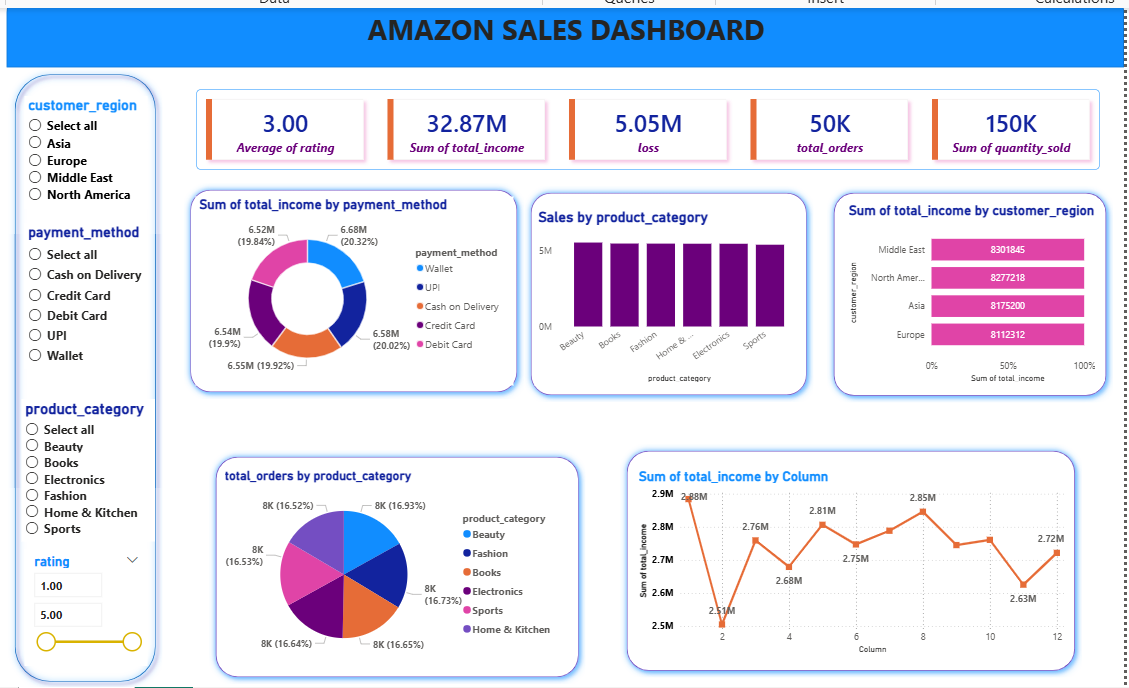

What the dashboard file says about the page in this screenshot:
{"tool":"powerbi","page":{"name":"Page 3","canvas":[1500,1000],"ordinal":0},"visuals":[{"type":"shape","box":[10,0,1490,98],"z":0},{"type":"textbox","box":[12,16,1488,66],"z":1000},{"type":"shape","box":[246,252,454,288],"z":2000},{"type":"donutChart","fields":{"Category":["amazon_sales_cleaned_dataset.payment_method"],"Y":["Sum(amazon_sales_cleaned_dataset.total_income)"]},"box":[262,270,424,252],"z":3000},{"type":"shape","box":[700,256,386,288],"z":4000},{"type":"shape","box":[280,608,502,312],"z":5000},{"type":"shape","box":[1104.3,255.7,381.4,288.6],"z":6000},{"type":"clusteredColumnChart","title":"Sales by product_category","fields":{"Category":["amazon_sales_cleaned_dataset.product_category"],"Y":["Sum(amazon_sales_cleaned_dataset.total_income)"]},"box":[714,286,358,236],"z":7000},{"type":"shape","box":[12,98,206,828],"z":8000},{"type":"listSlicer","fields":{"Values":["amazon_sales_cleaned_dataset.customer_region"]},"box":[34,136,164,150],"z":9000},{"type":"listSlicer","fields":{"Values":["amazon_sales_cleaned_dataset.payment_method"]},"box":[34,306,164,194],"z":10000},{"type":"listSlicer","fields":{"Values":["amazon_sales_cleaned_dataset.product_category"]},"box":[30,540,178,190],"z":11000},{"type":"shape","box":[803,608,663,311],"z":12000},{"type":"pieChart","fields":{"Y":["amazon_sales_cleaned_dataset.total_orders"],"Category":["amazon_sales_cleaned_dataset.product_category"]},"box":[296,632,460,264],"z":13000},{"type":"hundredPercentStackedBarChart","fields":{"Category":["amazon_sales_cleaned_dataset.customer_region"],"Y":["Sum(amazon_sales_cleaned_dataset.total_income)"]},"box":[1127.1,277.1,338.6,244.3],"z":14000},{"type":"cardVisual","fields":{"Data":["Avg(amazon_sales_cleaned_dataset.rating)","Sum(amazon_sales_cleaned_dataset.total_income)","amazon_sales_cleaned_dataset.loss","amazon_sales_cleaned_dataset.total_orders","Sum(amazon_sales_cleaned_dataset.quantity_sold)"]},"box":[245.7,110,1240,141.4],"z":15000},{"type":"slicer","fields":{"Values":["amazon_sales_cleaned_dataset.rating"]},"box":[34.3,740,164.3,155.7],"z":16000},{"type":"lineChart","fields":{"Category":["amazon_sales_cleaned_dataset.Column"],"Y":["Sum(amazon_sales_cleaned_dataset.total_income)"],"Series":["amazon_sales_cleaned_dataset.YEAR"]},"box":[821,626,612,275],"z":16001}]}

Visuals, with their boxes on the page's 1500x1000 design canvas (x1, y1, x2, y2). These are canvas units, not pixel positions in the 1129x688 screenshot, which may show the page scaled, cropped or inside an application window:
shape: box=[10, 0, 1500, 98]
textbox: box=[12, 16, 1500, 82]
shape: box=[246, 252, 700, 540]
donutChart - amazon_sales_cleaned_dataset.payment_method x Sum(amazon_sales_cleaned_dataset.total_income): box=[262, 270, 686, 522]
shape: box=[700, 256, 1086, 544]
shape: box=[280, 608, 782, 920]
shape: box=[1104, 256, 1486, 544]
"Sales by product_category" clusteredColumnChart: box=[714, 286, 1072, 522]
shape: box=[12, 98, 218, 926]
listSlicer - amazon_sales_cleaned_dataset.customer_region: box=[34, 136, 198, 286]
listSlicer - amazon_sales_cleaned_dataset.payment_method: box=[34, 306, 198, 500]
listSlicer - amazon_sales_cleaned_dataset.product_category: box=[30, 540, 208, 730]
shape: box=[803, 608, 1466, 919]
pieChart - amazon_sales_cleaned_dataset.total_orders x amazon_sales_cleaned_dataset.product_category: box=[296, 632, 756, 896]
hundredPercentStackedBarChart - amazon_sales_cleaned_dataset.customer_region x Sum(amazon_sales_cleaned_dataset.total_income): box=[1127, 277, 1466, 521]
cardVisual - Avg(amazon_sales_cleaned_dataset.rating) x Sum(amazon_sales_cleaned_dataset.total_income): box=[246, 110, 1486, 251]
slicer - amazon_sales_cleaned_dataset.rating: box=[34, 740, 199, 896]
lineChart - amazon_sales_cleaned_dataset.Column x Sum(amazon_sales_cleaned_dataset.total_income): box=[821, 626, 1433, 901]
